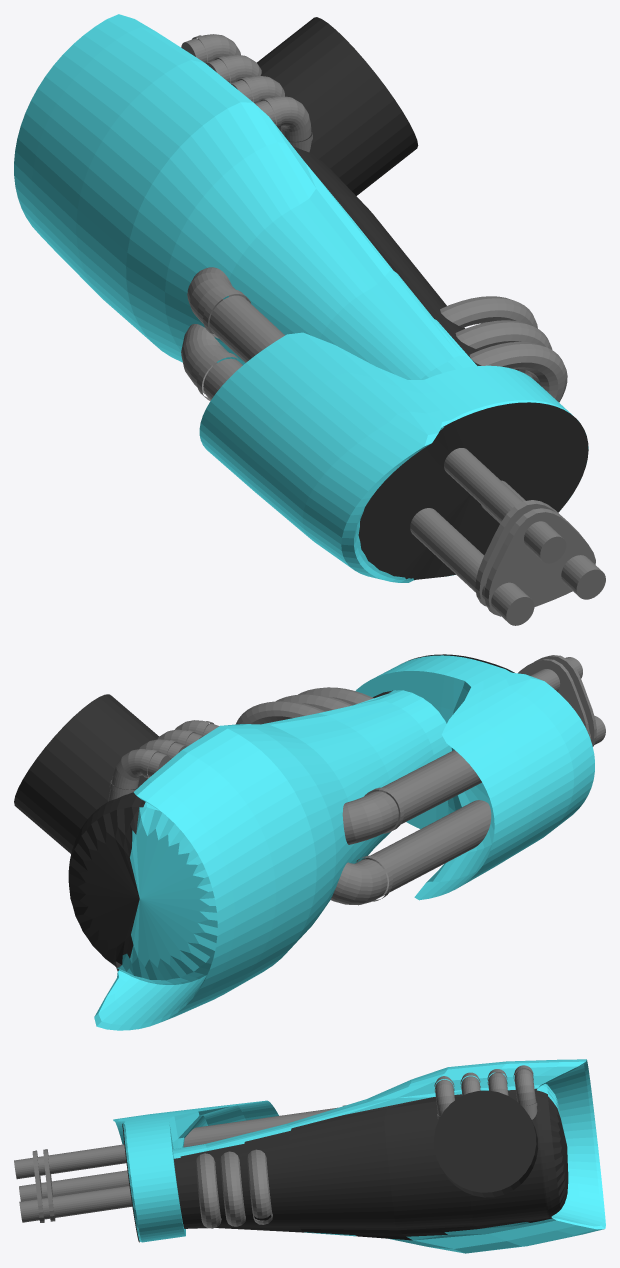
The model's file is MissileShip_Arms_LowerL.fbx.
3 renders of one model, top to bottom at view 1: azimuth 30°, elevation 25°; view 2: azimuth 150°, elevation 25°; view 3: azimuth 270°, elevation 25°, orthographic. The views are drawn at different scales.
Visible parts, largest first — view 1: Cylinder.010, Cylinder.000, Cylinder.030, Cylinder.029, Cylinder.028, Cylinder.024, Cylinder.027, Cylinder.031; view 2: Cylinder.010, Cylinder.000, Cylinder.024, Cylinder.028, Cylinder.031, Cylinder.029, Cylinder.027; view 3: Cylinder.031, Cylinder.010, Cylinder.028, Cylinder.000, Cylinder.029, Cylinder.027, Cylinder.024.
Part boxes in pixels (x1,y1,x2,y2): Cylinder.010: [14, 14, 477, 379]; Cylinder.000: [199, 332, 588, 582]; Cylinder.030: [358, 402, 588, 579]; Cylinder.029: [410, 448, 605, 625]; Cylinder.028: [257, 17, 418, 195]; Cylinder.024: [181, 34, 312, 400]; Cylinder.027: [440, 296, 567, 402]; Cylinder.031: [288, 141, 481, 365]; Cylinder.010: [94, 690, 451, 1030]; Cylinder.000: [355, 654, 594, 900]; Cylinder.024: [108, 720, 491, 905]; Cylinder.028: [14, 694, 158, 853]; Cylinder.031: [68, 690, 392, 971]; Cylinder.029: [518, 655, 605, 746]; Cylinder.027: [235, 687, 373, 724]; Cylinder.031: [174, 1088, 568, 1240]; Cylinder.010: [173, 1059, 605, 1253]; Cylinder.028: [434, 1090, 538, 1197]; Cylinder.000: [113, 1100, 278, 1242]; Cylinder.029: [14, 1144, 132, 1222]; Cylinder.027: [195, 1149, 272, 1228]; Cylinder.024: [183, 1065, 537, 1147].
Size of the model in its own units: 114 by 92.64 by 263.
